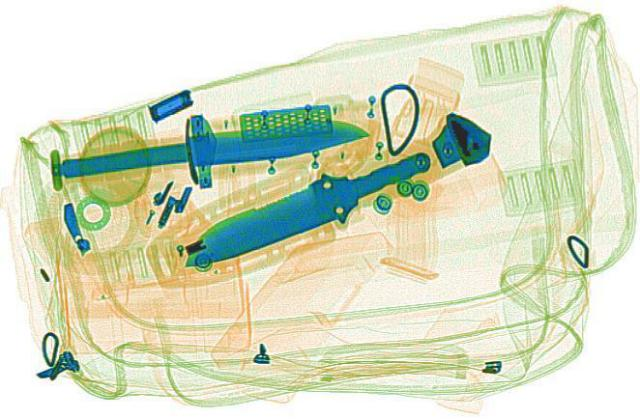Knife: (151, 133, 459, 286), (35, 95, 379, 204)
